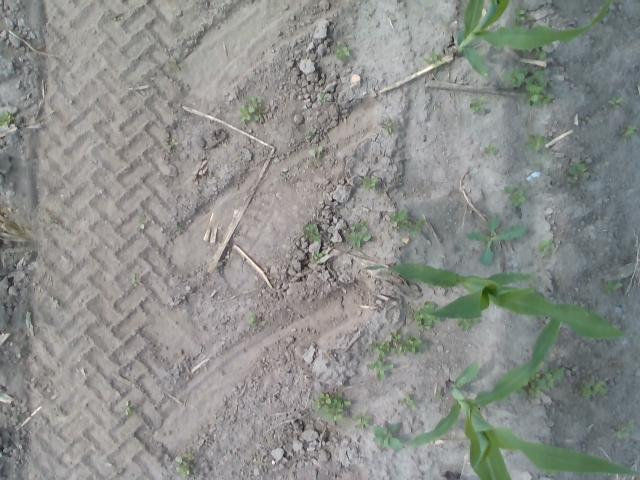Maize: (404, 316, 640, 480), (362, 260, 640, 343), (456, 0, 612, 76)
Weeds: (466, 218, 526, 264), (522, 70, 556, 108), (528, 366, 564, 398), (313, 392, 351, 422), (414, 301, 442, 330), (372, 424, 402, 450), (238, 95, 264, 123), (346, 222, 371, 248), (504, 185, 530, 208), (172, 452, 195, 478), (501, 66, 527, 88), (579, 379, 607, 399), (366, 360, 394, 379), (565, 163, 588, 186), (398, 336, 427, 354), (368, 340, 396, 358), (524, 132, 549, 152), (389, 210, 411, 231), (424, 49, 442, 73), (520, 46, 548, 61), (467, 94, 488, 112), (538, 238, 558, 256), (397, 394, 417, 412), (301, 223, 320, 241), (352, 412, 371, 430), (602, 280, 622, 296), (511, 7, 528, 25), (335, 44, 352, 62), (457, 318, 478, 331), (380, 117, 396, 134), (618, 422, 635, 438), (620, 123, 636, 138), (410, 219, 426, 234), (0, 109, 14, 126), (362, 176, 377, 190), (608, 96, 623, 109), (135, 212, 146, 229), (308, 146, 324, 156), (249, 314, 261, 326), (124, 405, 136, 417), (391, 331, 404, 342), (484, 144, 498, 154), (312, 252, 325, 262), (512, 385, 525, 395), (316, 92, 332, 100), (50, 296, 60, 308), (167, 139, 179, 148), (130, 272, 138, 284), (306, 129, 316, 138), (434, 388, 442, 398), (172, 225, 182, 232)
